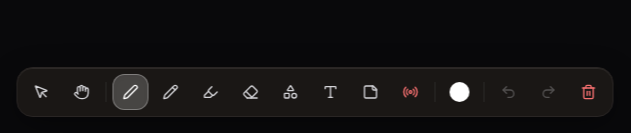
Scenario: WhiteboardToolbar Component (Floating Glass Tool Dock) › opens shapes menu and selects geometric shapes
The image size is (631, 133).
// Open Shapes Menu
Click the button with test id "tool-shapes" at (290, 92), box x1=272 y1=74 x2=308 y2=110
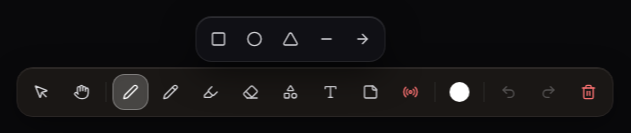
Result: the menu with test id "shapes-menu" is shown at x1=196 y1=16 x2=386 y2=62
// Select Rectangle
Click the menu item with test id "tool-rect" at (218, 39), box x1=202 y1=23 x2=234 y2=55
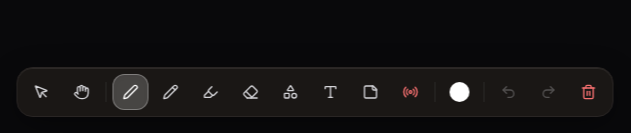
Result: the menu with test id "shapes-menu" is gone
